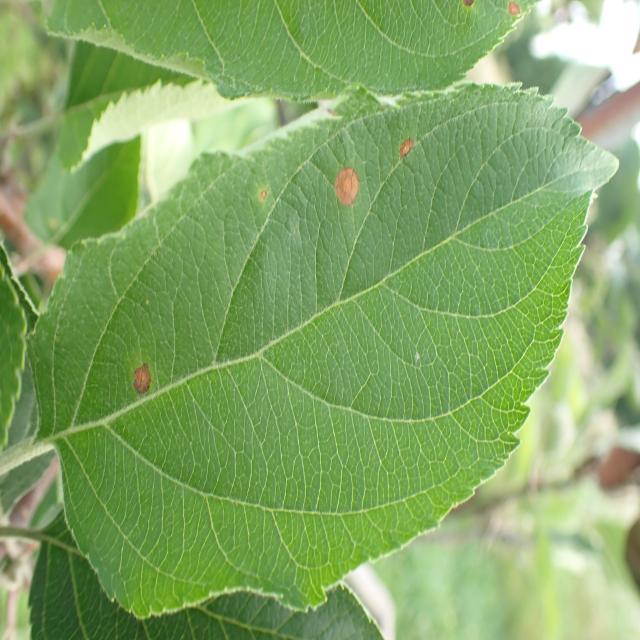Black Rot: (315, 151, 377, 235), (124, 326, 174, 418), (389, 116, 433, 180), (246, 164, 276, 226), (496, 0, 522, 23)
